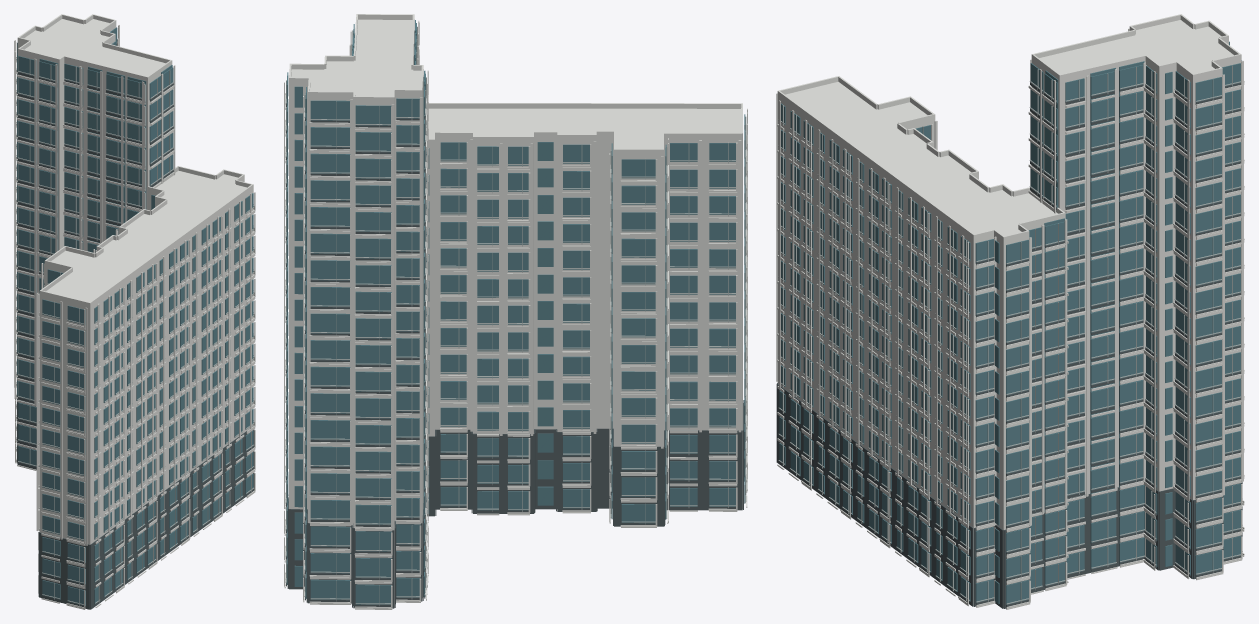
The model's file is bespoke-acro-riverpark-112.glb.
3 renders of one model, left to right at view 1: azimuth 30°, elevation 25°; view 2: azimuth 150°, elevation 25°; view 3: azimuth 270°, elevation 25°, orthographic. The views are drawn at different scales.
Visible parts, largest first — view 1: 112_R00_body, 112_R00_glass, 112_R00_white, 112_R01_glass, 112_R01_white, 112_R01_body, 112_R00_dark, 112_R00_frame, 112_R01_frame, 112_R01_dark; view 2: 112_R00_glass, 112_R00_body, 112_R01_glass, 112_R00_white, 112_R01_white, 112_R01_body, 112_R00_dark, 112_R00_frame, 112_R01_dark, 112_R01_frame; view 3: 112_R01_glass, 112_R00_glass, 112_R00_body, 112_R00_white, 112_R01_white, 112_R01_body, 112_R00_frame, 112_R00_dark, 112_R01_dark, 112_R01_frame.
Boxes of the visible parts, box(x1,y1,x2,y2) form: 112_R00_body: box(39, 170, 253, 544); 112_R00_glass: box(42, 193, 253, 605); 112_R00_white: box(36, 166, 255, 609); 112_R01_glass: box(17, 27, 173, 466); 112_R01_white: box(14, 14, 175, 470); 112_R01_body: box(17, 19, 172, 403); 112_R00_dark: box(38, 426, 254, 609); 112_R00_frame: box(42, 194, 254, 605); 112_R01_frame: box(16, 31, 173, 466); 112_R01_dark: box(16, 43, 173, 469); 112_R00_glass: box(426, 114, 745, 523); 112_R00_body: box(426, 108, 742, 508); 112_R01_glass: box(286, 20, 425, 604); 112_R00_white: box(426, 103, 747, 527); 112_R01_white: box(284, 14, 428, 609); 112_R01_body: box(289, 19, 423, 607); 112_R00_dark: box(427, 400, 744, 526); 112_R00_frame: box(440, 116, 746, 524); 112_R01_dark: box(286, 103, 425, 608); 112_R01_frame: box(285, 26, 426, 605); 112_R01_glass: box(1030, 41, 1241, 575); 112_R00_glass: box(779, 103, 1066, 604); 112_R00_body: box(777, 81, 1065, 608); 112_R00_white: box(776, 76, 1068, 609); 112_R01_white: box(1028, 14, 1244, 580); 112_R01_body: box(1031, 20, 1241, 569); 112_R00_frame: box(778, 105, 1065, 604); 112_R00_dark: box(776, 241, 1066, 608); 112_R01_dark: box(1030, 82, 1242, 579); 112_R01_frame: box(1029, 65, 1242, 574).
Size of the model in its own units: 47.34 by 68 by 57.3.
